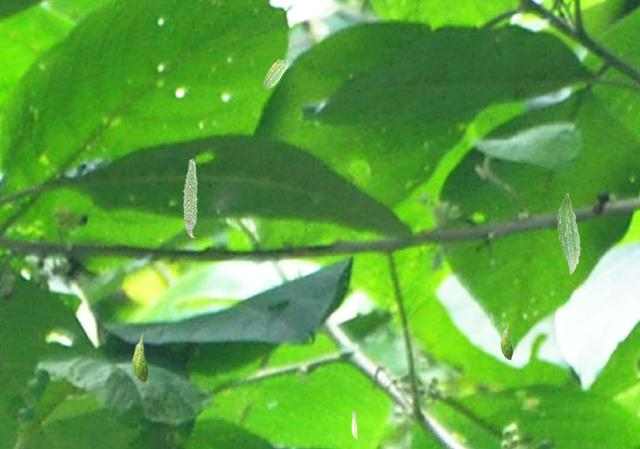ampalaya: (557, 192, 580, 275), (182, 158, 198, 238), (131, 334, 148, 383), (262, 59, 289, 89), (500, 322, 513, 360), (135, 350, 144, 378), (351, 409, 358, 440), (489, 311, 495, 327)
